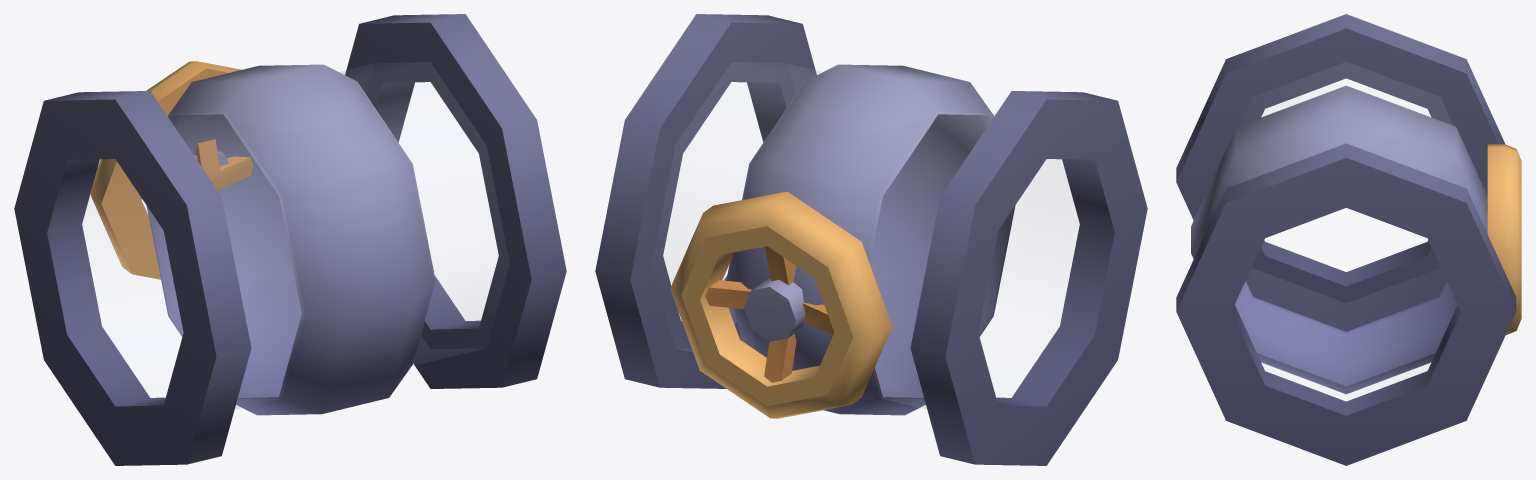
The model's file is kenney-factory-pipe-glass-large-valve.glb.
3 views of the same model, side by side, from view 1: azimuth 30°, elevation 25°; view 2: azimuth 150°, elevation 25°; view 3: azimuth 270°, elevation 25° (orthographic). The views are drawn at different scales.
Visible parts, largest first — view 1: pipe-glass-large-valve; view 2: pipe-glass-large-valve; view 3: pipe-glass-large-valve.
Boxes of the visible parts, x1=… form: pipe-glass-large-valve: x1=14, y1=14, x2=566, y2=465; pipe-glass-large-valve: x1=595, y1=14, x2=1147, y2=465; pipe-glass-large-valve: x1=1176, y1=14, x2=1521, y2=465.
Bounding box in the file's own units: 1 × 1 × 1.02.
Materials: 2 (1 with a texture image).
